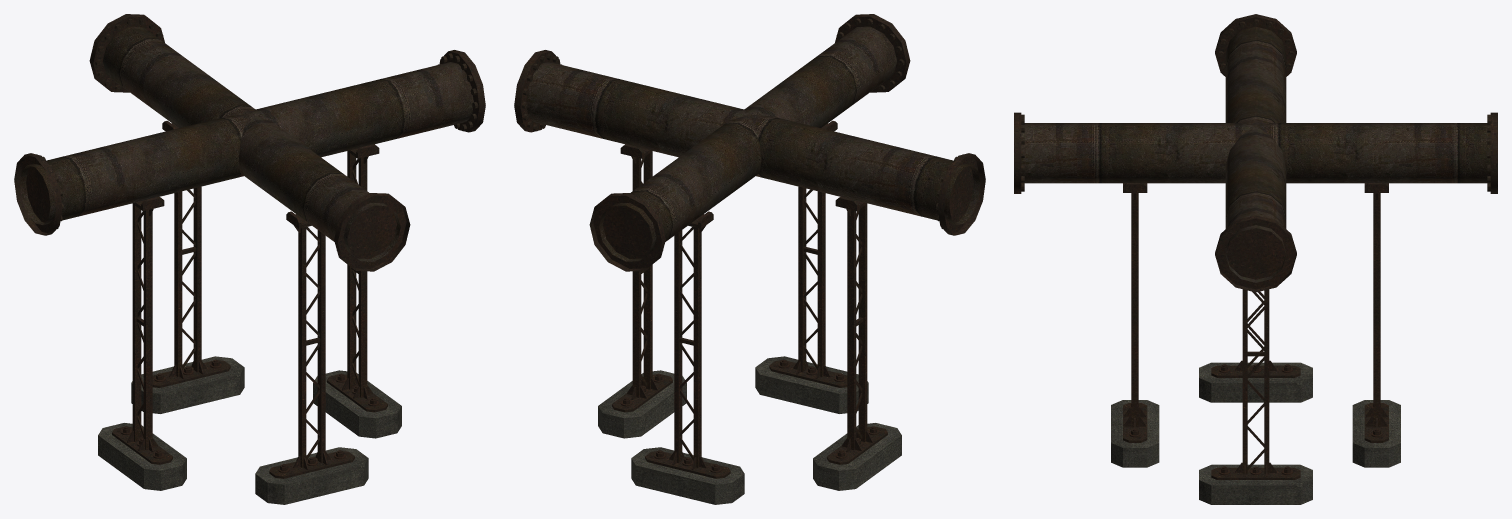
Rendered from pipe_cx_2.glb.
3 views of the same model, side by side, from view 1: azimuth 30°, elevation 25°; view 2: azimuth 150°, elevation 25°; view 3: azimuth 270°, elevation 25° (orthographic). The views are drawn at different scales.
Visible parts, largest first — view 1: pipe_cx_2; view 2: pipe_cx_2; view 3: pipe_cx_2.
Boxes of the visible parts, x1,y1,x2,y2 form: pipe_cx_2: (14,14,485,504); pipe_cx_2: (514,14,985,504); pipe_cx_2: (1014,14,1497,504).
Bounding box in the file's own units: 4 × 2.99 × 4.
Materials: 3 (3 with a texture image).
